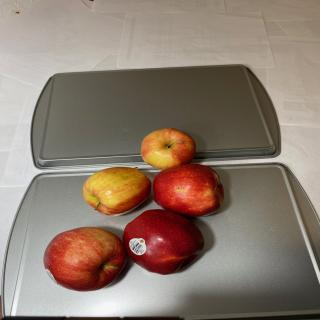Apple: (43, 226, 127, 292), (123, 209, 205, 275), (153, 163, 224, 217), (82, 166, 152, 216), (141, 128, 196, 170)
